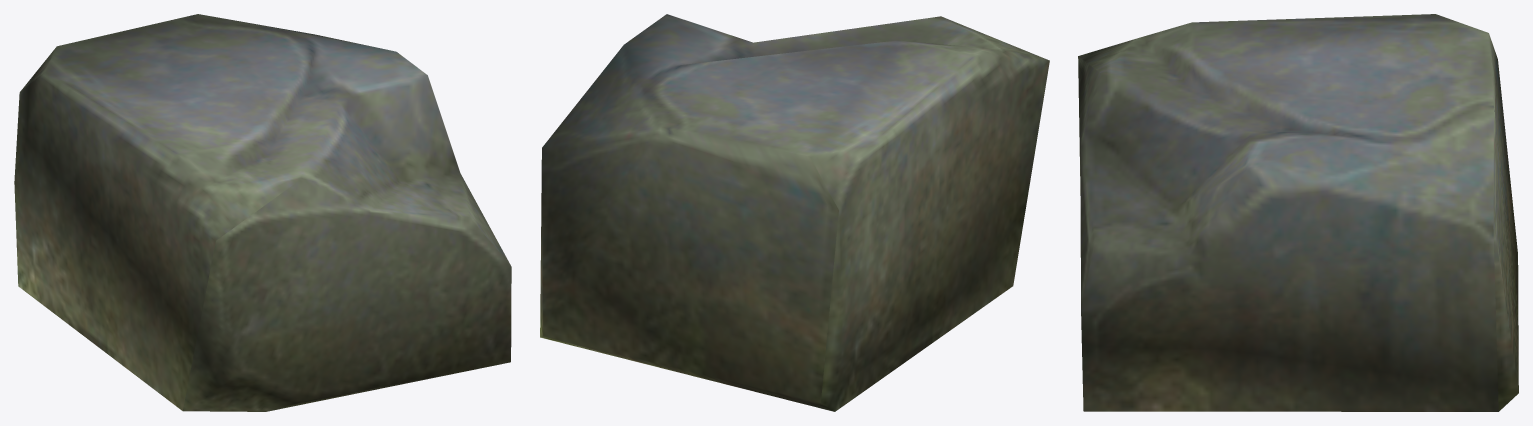
File: wlf_shitou14_w.FBX
The picture shows the model from 3 angles, left to right: view 1: azimuth 30°, elevation 25°; view 2: azimuth 150°, elevation 25°; view 3: azimuth 270°, elevation 25°; orthographic projection. The views are drawn at different scales.
Visible parts, largest first — view 1: wlf_shitou14_w; view 2: wlf_shitou14_w; view 3: wlf_shitou14_w.
Part boxes in pixels (x1=…): wlf_shitou14_w: x1=14, y1=14, x2=511, y2=411; wlf_shitou14_w: x1=540, y1=14, x2=1049, y2=411; wlf_shitou14_w: x1=1078, y1=14, x2=1518, y2=411.
Size of the model in its own units: 10.55 by 8.01 by 12.93.
